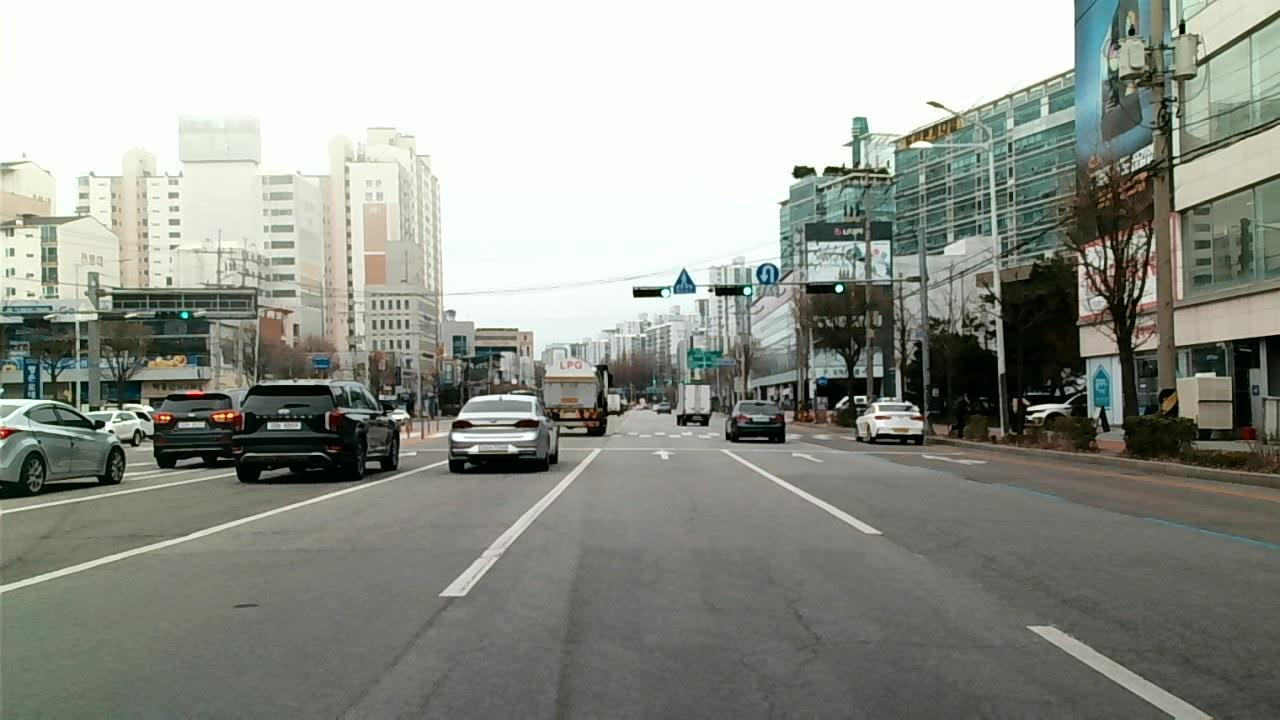banner: (335, 600, 459, 720), (1150, 643, 1254, 703), (780, 590, 829, 667), (1156, 520, 1258, 543), (962, 476, 1048, 495), (1063, 499, 1144, 519), (898, 461, 947, 474)
